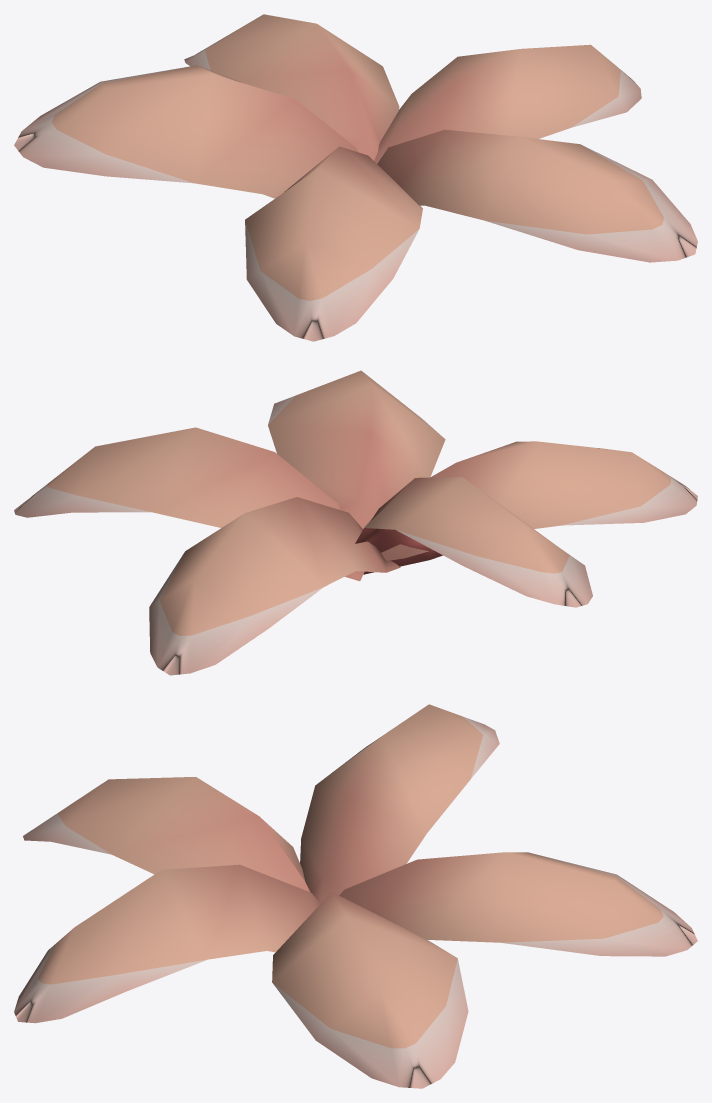
The model's file is FlowerOrange_0.glb.
3 renders of one model, top to bottom at view 1: azimuth 30°, elevation 25°; view 2: azimuth 150°, elevation 25°; view 3: azimuth 270°, elevation 25°, orthographic. The views are drawn at different scales.
Parts seen in each view (by area): view 1: FlowerOrange; view 2: FlowerOrange; view 3: FlowerOrange.
Boxes of the visible parts, <box> form: FlowerOrange: <box>14,14,697,341</box>; FlowerOrange: <box>14,370,697,675</box>; FlowerOrange: <box>14,704,697,1088</box>.
Bounding box in the file's own units: 0.59 × 0.1458 × 0.5644.
